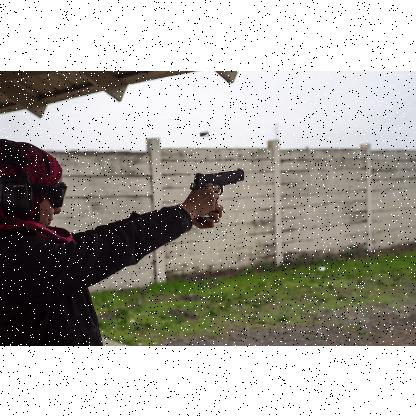gun: (190, 166, 244, 218)
